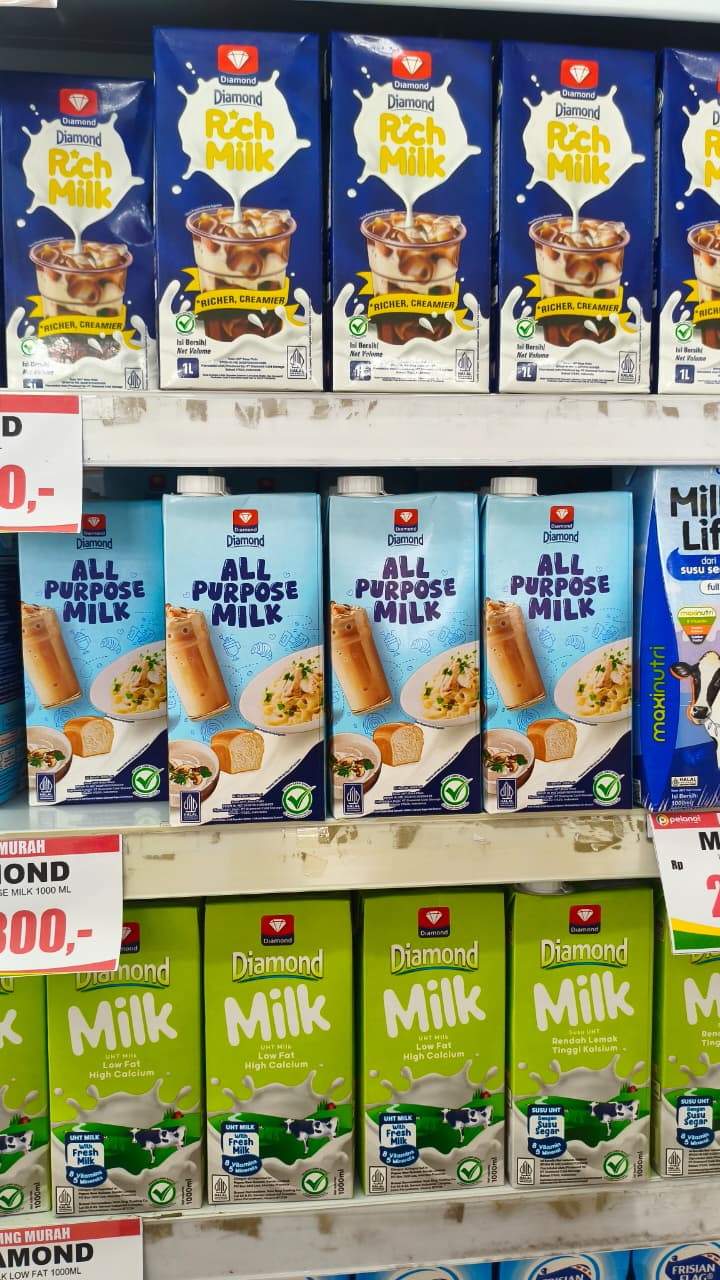All Purpose Milk: (322, 492, 479, 737), (157, 490, 314, 735), (485, 488, 642, 733)
Diamond Milk: (511, 886, 668, 1131), (346, 899, 503, 1144), (191, 909, 348, 1154)
Rich Milk: (161, 34, 318, 279), (337, 32, 494, 277), (508, 43, 665, 288)
